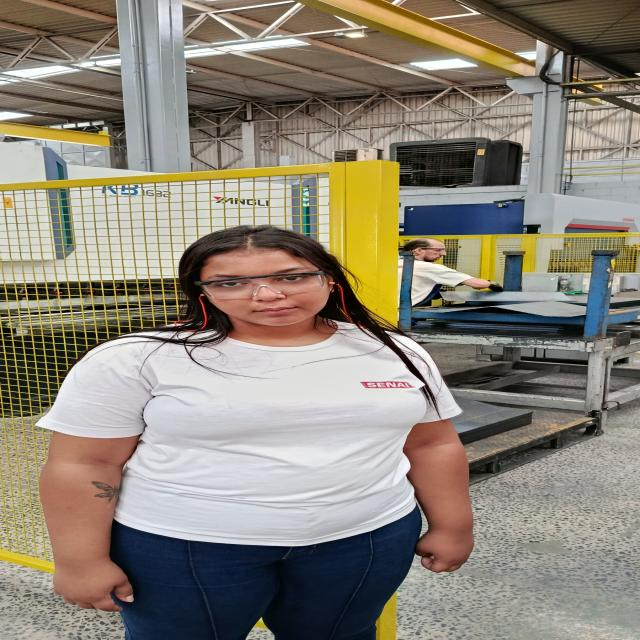oculos-epi: (194, 270, 327, 298), (421, 249, 446, 253)
